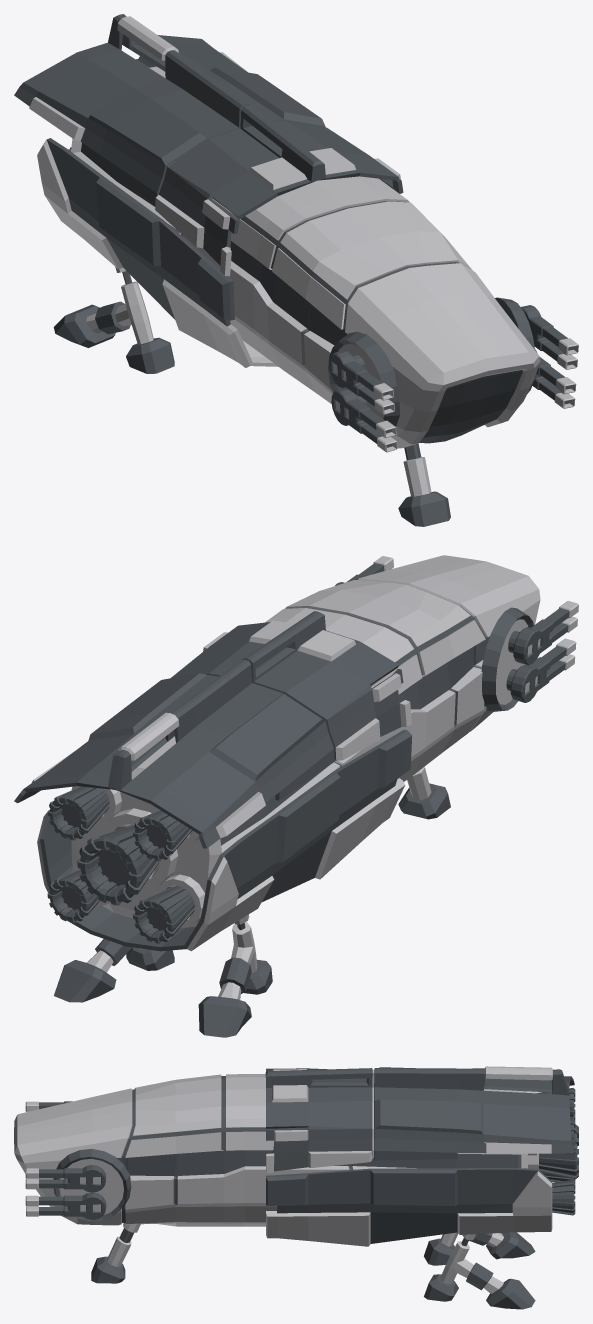
File: Dropship_04_Neutral.fbx
3 views of the same model, one above another, from view 1: azimuth 30°, elevation 25°; view 2: azimuth 150°, elevation 25°; view 3: azimuth 270°, elevation 25° (orthographic). The views are drawn at different scales.
Parts seen in each view (by area): view 1: Dropship_04_Neutral; view 2: Dropship_04_Neutral; view 3: Dropship_04_Neutral.
Boxes of the visible parts, bbox=[...] form: Dropship_04_Neutral: bbox=[14, 14, 578, 526]; Dropship_04_Neutral: bbox=[14, 555, 578, 1037]; Dropship_04_Neutral: bbox=[14, 1066, 578, 1309].
Bounding box in the file's own units: 439 × 601 × 1458.
Materials: 1 (1 with a texture image).
